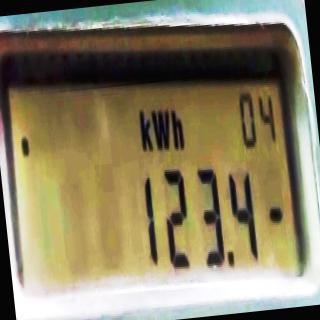-: (265, 194, 284, 233), (224, 240, 236, 277), (18, 129, 31, 161)
0: (235, 84, 258, 153)
1: (140, 168, 160, 268)
2: (157, 160, 195, 274)
3: (192, 154, 228, 276)
4: (225, 164, 262, 268), (256, 87, 278, 148)
